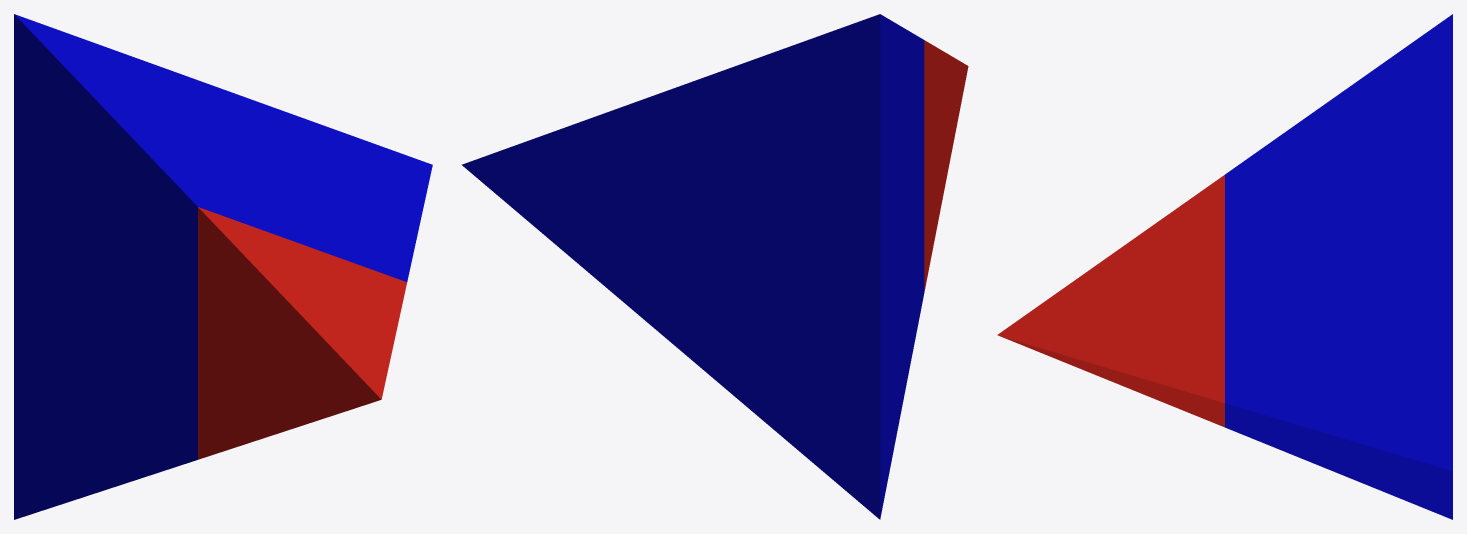
The model's file is tri.obj.
The picture shows the model from 3 angles, left to right: view 1: azimuth 30°, elevation 25°; view 2: azimuth 150°, elevation 25°; view 3: azimuth 270°, elevation 25°; orthographic projection.
Parts seen in each view (by area): view 1: Solid.001; view 2: Solid.001; view 3: Solid.001.
Boxes of the visible parts, x1,y1,x2,y2 form: Solid.001: (14, 14, 432, 519); Solid.001: (461, 14, 968, 519); Solid.001: (997, 14, 1452, 519).
Bounding box in the file's own units: 0.7071 × 0.8165 × 0.6667.
